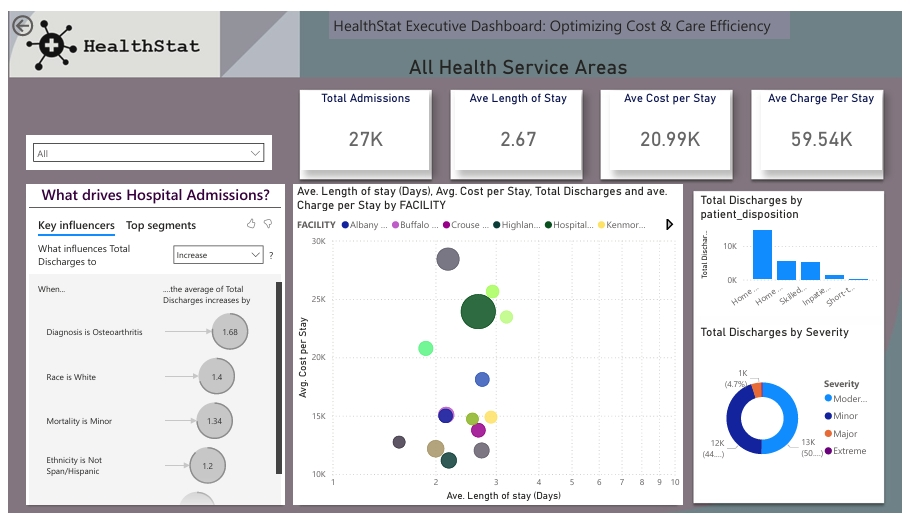

The dashboard page shown, as its layout file describes it:
{"tool":"powerbi","page":{"name":"EXECUTIVE OVERVIEW","canvas":[1280,720],"ordinal":0},"visuals":[{"type":"card","title":"Total Admissions","fields":{"Values":["Key Measures.Total Discharges"]},"box":[419.9,114.2,183.1,112.5],"z":0},{"type":"card","title":"Ave Length of Stay","fields":{"Values":["Key Measures.Ave. Length of stay (Days)"]},"box":[640,114.2,179.7,112.5],"z":3000},{"type":"card","title":"Ave Cost per Stay","fields":{"Values":["Key Measures.Avg. Cost per Stay"]},"box":[861.7,114.2,171.3,112.5],"z":4000},{"type":"actionButton","box":[0,0,100,40],"z":8000},{"type":"keyDriversVisual","title":"What drives Hospital Admissions?","fields":{"ExplainBy":["Dim_Diagnosis.Diagnosis","Dim_Procedure.Procedure","Dim_Hospital.FACILITY","Dim_Hospital.HEALTH SERVICE AREA","Dim_Patient.Ethnicity","Dim_Patient.Zip Code","Dim_Patient.Race","Dim_Severity.Severity","Dim_Mortality.Mortality","Dim_Hospital.COUNTY","Dim_Patient.Gender","Dim_Patient.Age Group"],"Target":["Key Measures.Total Discharges"]},"box":[25,247.5,371.2,458.8],"z":9000},{"type":"slicer","fields":{"Values":["Dim_Hospital.HOSPITAL HIERARCHY.HEALTH SERVICE AREA","Dim_Hospital.HOSPITAL HIERARCHY.COUNTY","Dim_Hospital.HOSPITAL HIERARCHY.FACILITY"]},"box":[25.2,178.1,351.1,48.7],"z":10001},{"type":"scatterChart","fields":{"X":["Key Measures.Ave. Length of stay (Days)"],"Y":["Key Measures.Avg. Cost per Stay"],"Size":["Key Measures.Total Discharges"],"Series":["Dim_Hospital.FACILITY"]},"box":[408,247,558,459],"z":10003},{"type":"clusteredColumnChart","fields":{"Category":["Fact_Admissions.patient_disposition"],"Y":["Key Measures.Total Discharges"]},"box":[986,260.4,263.7,174.7],"z":10005},{"type":"donutChart","fields":{"Category":["Dim_Severity.Severity"],"Y":["Key Measures.Total Discharges"]},"box":[986,448.5,263.7,248.6],"z":10006},{"type":"textbox","box":[460.3,0,658.5,40.3],"z":10007},{"type":"card","title":"Ave  Charge Per Stay","fields":{"Values":["Key Measures.ave. Charge per Stay"]},"box":[1078.4,114.2,171.3,112.5],"z":10008},{"type":"card","fields":{"Values":["Key Measures.Dynamic Title"]},"box":[446.8,57.1,566.1,38.6],"z":10009},{"type":"qnaVisual","box":[100,0,276.3,150],"z":10010}]}

Visuals, with their boxes in screenshot pixels (x1, y1, x2, y2), scaled from the page's 1280x720 canvas onto the 911x514 screenshot:
"Total Admissions" card: [left=299, top=82, right=429, bottom=162]
"Ave Length of Stay" card: [left=456, top=82, right=583, bottom=162]
"Ave Cost per Stay" card: [left=613, top=82, right=735, bottom=162]
actionButton: [left=0, top=0, right=71, bottom=29]
"What drives Hospital Admissions?" keyDriversVisual: [left=18, top=177, right=282, bottom=504]
slicer - Dim_Hospital.HOSPITAL HIERARCHY.HEALTH SERVICE AREA x Dim_Hospital.HOSPITAL HIERARCHY.COUNTY: [left=18, top=127, right=268, bottom=162]
scatterChart - Key Measures.Ave. Length of stay (Days) x Key Measures.Avg. Cost per Stay: [left=290, top=176, right=688, bottom=504]
clusteredColumnChart - Fact_Admissions.patient_disposition x Key Measures.Total Discharges: [left=702, top=186, right=889, bottom=311]
donutChart - Dim_Severity.Severity x Key Measures.Total Discharges: [left=702, top=320, right=889, bottom=498]
textbox: [left=328, top=0, right=796, bottom=29]
"Ave  Charge Per Stay" card: [left=768, top=82, right=889, bottom=162]
card - Key Measures.Dynamic Title: [left=318, top=41, right=721, bottom=68]
qnaVisual: [left=71, top=0, right=268, bottom=107]
